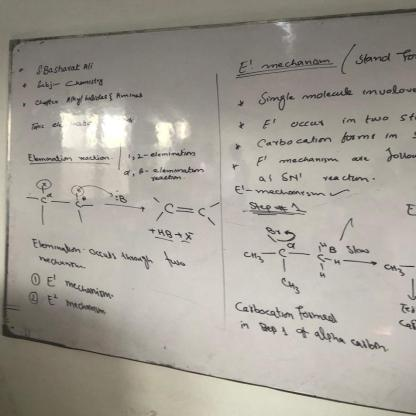Handwritten text: (254, 82, 412, 109), (231, 296, 350, 322), (254, 130, 403, 148), (276, 148, 416, 166), (27, 114, 144, 133), (28, 68, 116, 93), (288, 110, 392, 129), (28, 55, 106, 76)
Whiteboard: (0, 7, 416, 415)
